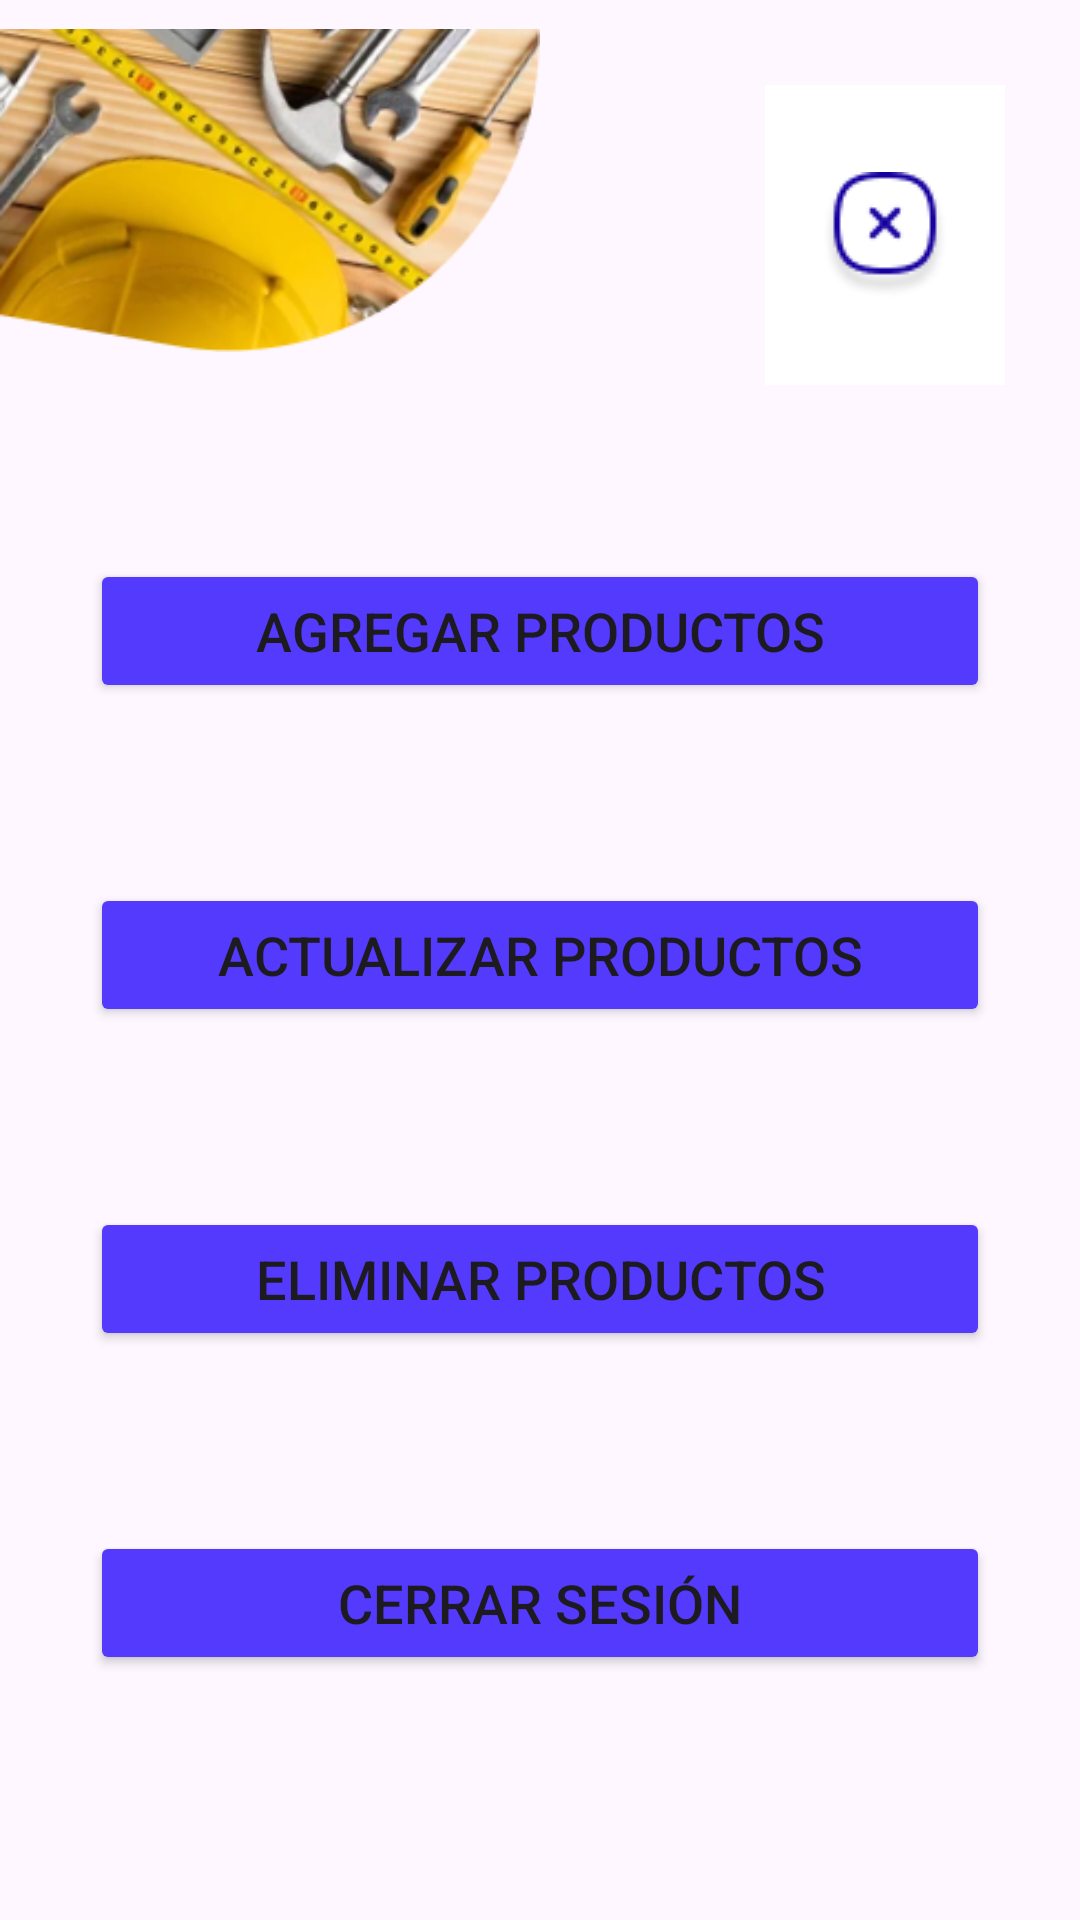

Point at icon controls on the screen. Image size 1080×1920, points as (x,y).
cerrar: (885,228)
